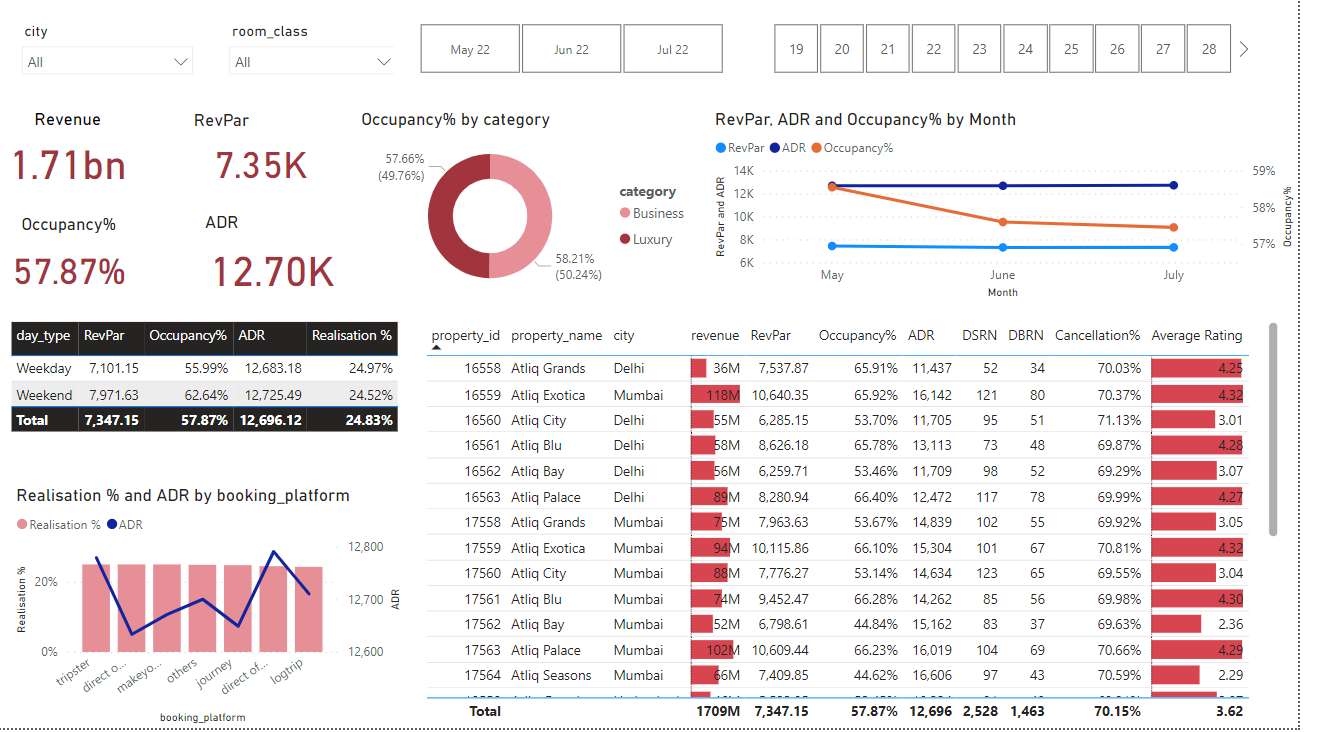

What the dashboard file says about the page in this screenshot:
{"tool":"powerbi","page":{"name":"Page 1","canvas":[1280,720],"ordinal":0},"visuals":[{"type":"tableEx","fields":{"Values":["dim_hotels.property_id","dim_hotels.property_name","dim_hotels.city","key_measures.revenue","key_measures.RevPar","key_measures.Occupancy%","key_measures.ADR","key_measures.DSRN","key_measures.DBRN","key_measures.Cancellation%","key_measures.Average Rating"]},"box":[419.9,318.4,843.9,402.1],"z":0},{"type":"slicer","fields":{"Values":["dim_hotels.city"]},"box":[20.6,24.7,188,71.4],"z":1000},{"type":"slicer","fields":{"Values":["dim_rooms.room_class"]},"box":[223.7,24.7,183.9,61.7],"z":2000},{"type":"slicer","fields":{"Values":["dim_date.mmm yy"]},"box":[395.2,24.7,345.8,61.7],"z":3000},{"type":"slicer","fields":{"Values":["dim_date.wn"]},"box":[741,24.7,496.7,61.7],"z":4000},{"type":"card","title":"Revenue","fields":{"Values":["key_measures.revenue"]},"box":[0,113.9,152.3,83.7],"z":5000},{"type":"donutChart","fields":{"Category":["dim_hotels.category"],"Y":["key_measures.Occupancy%"]},"box":[358.1,113.9,336.2,192.1],"z":6000},{"type":"lineChart","fields":{"Category":["dim_date.mmm yy.Variation.Date Hierarchy.Month","dim_date.week no"],"Y":["key_measures.RevPar","key_measures.ADR"],"Y2":["key_measures.Occupancy%"]},"box":[703.9,113.9,576.3,190.7],"z":7000},{"type":"card","title":"RevPar","fields":{"Values":["key_measures.RevPar"]},"box":[194.9,115.3,141.3,83.7],"z":8000},{"type":"card","title":"Occupancy%","fields":{"Values":["key_measures.Occupancy%"]},"box":[15.1,216.8,124.9,89.2],"z":9000},{"type":"card","title":"ADR","fields":{"Values":["key_measures.ADR"]},"box":[205.8,215.4,141.3,89.2],"z":10000},{"type":"lineStackedColumnComboChart","fields":{"Category":["fact_bookings.booking_platform"],"Y":["key_measures.Realisation %"],"Y2":["key_measures.ADR"]},"box":[20.6,481.6,387,238.8],"z":11000},{"type":"tableEx","fields":{"Values":["dim_date.day_type","key_measures.RevPar","key_measures.Occupancy%","key_measures.ADR","key_measures.Realisation %"]},"box":[15.1,318.4,404.8,133.1],"z":12000}]}

Visuals, with their boxes in screenshot pixels (x1, y1, x2, y2), scaled from the page's 1280x720 canvas onto the 1317x732 screenshot:
tableEx - dim_hotels.property_id x dim_hotels.property_name: x1=432, y1=324, x2=1300, y2=731
slicer - dim_hotels.city: x1=21, y1=25, x2=215, y2=98
slicer - dim_rooms.room_class: x1=230, y1=25, x2=419, y2=88
slicer - dim_date.mmm yy: x1=407, y1=25, x2=762, y2=88
slicer - dim_date.wn: x1=762, y1=25, x2=1273, y2=88
"Revenue" card: x1=0, y1=116, x2=157, y2=201
donutChart - dim_hotels.category x key_measures.Occupancy%: x1=368, y1=116, x2=714, y2=311
lineChart - dim_date.mmm yy.Variation.Date Hierarchy.Month x dim_date.week no: x1=724, y1=116, x2=1316, y2=310
"RevPar" card: x1=201, y1=117, x2=346, y2=202
"Occupancy%" card: x1=16, y1=220, x2=144, y2=311
"ADR" card: x1=212, y1=219, x2=357, y2=310
lineStackedColumnComboChart - fact_bookings.booking_platform x key_measures.Realisation %: x1=21, y1=490, x2=419, y2=731
tableEx - dim_date.day_type x key_measures.RevPar: x1=16, y1=324, x2=432, y2=459
